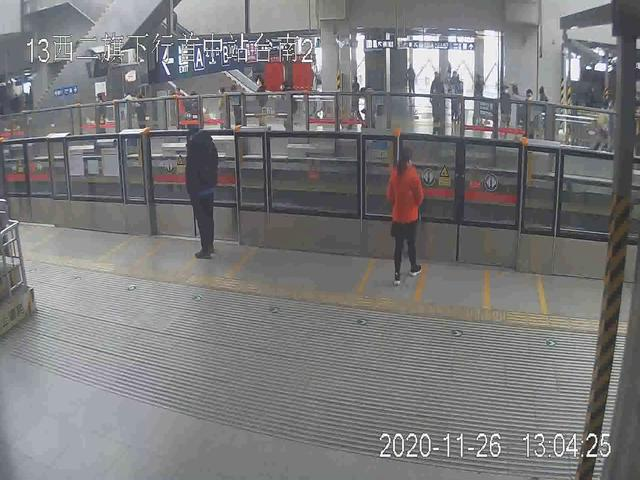person: (182, 121, 227, 261), (384, 146, 423, 283)
